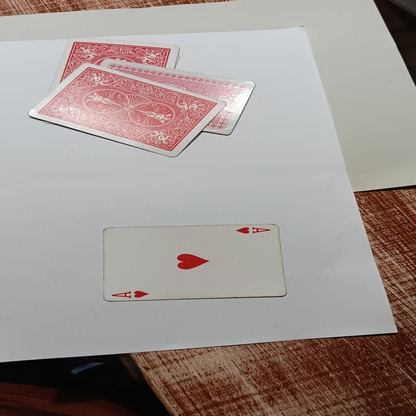Ah: (236, 225, 270, 236), (108, 290, 148, 298)
